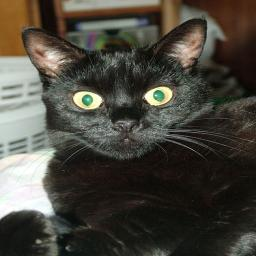catnose: (110, 114, 144, 136)
